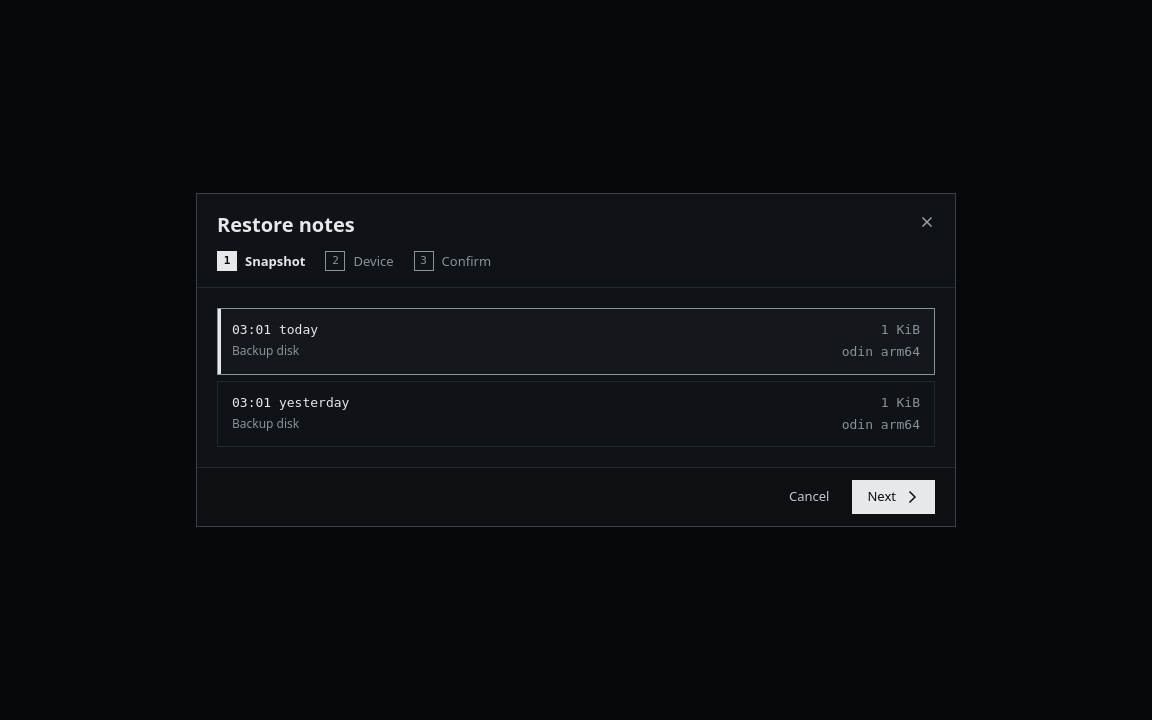
Scenario: walks through snapshot, device, and confirm, then follows the restore to its end
What coordinates should you click on to do the following:
click the button "03:01 yesterday 1 KiB Backup disk odin arm64"
I would click on:
 (291, 402)
Its box is [217,380,935,447].
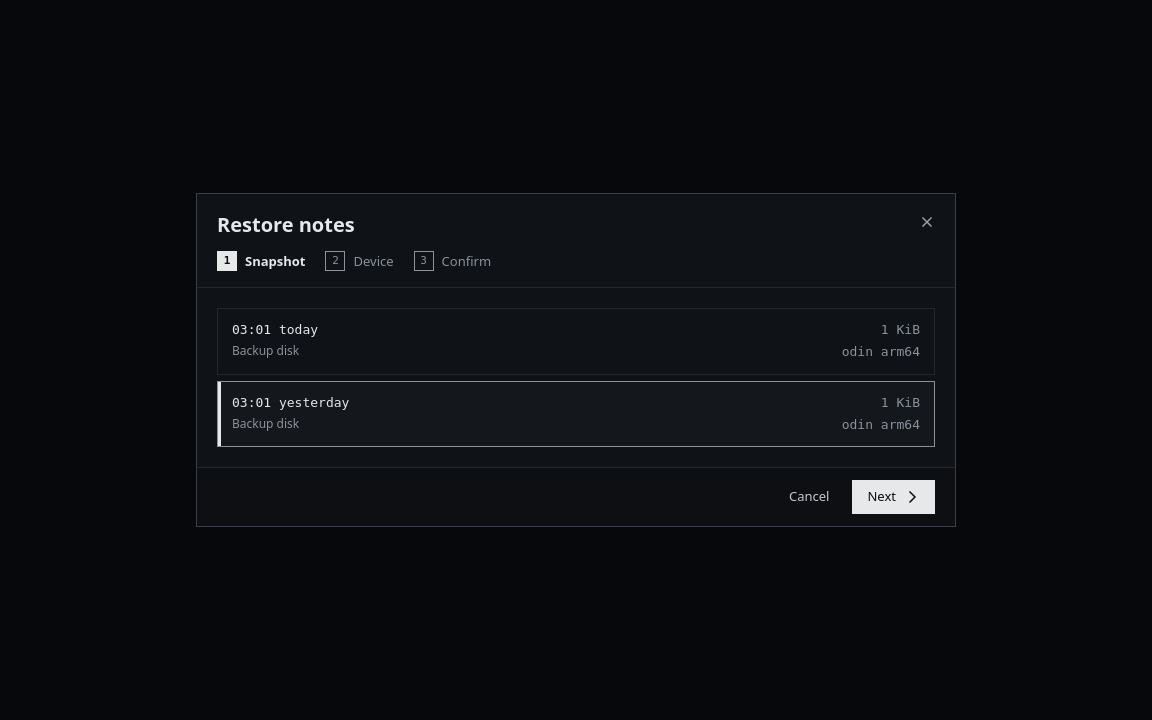
What coordinates should you click on to do the following:
click the button "Next"
I would click on:
 (894, 497)
Its box is [852,480,935,514].
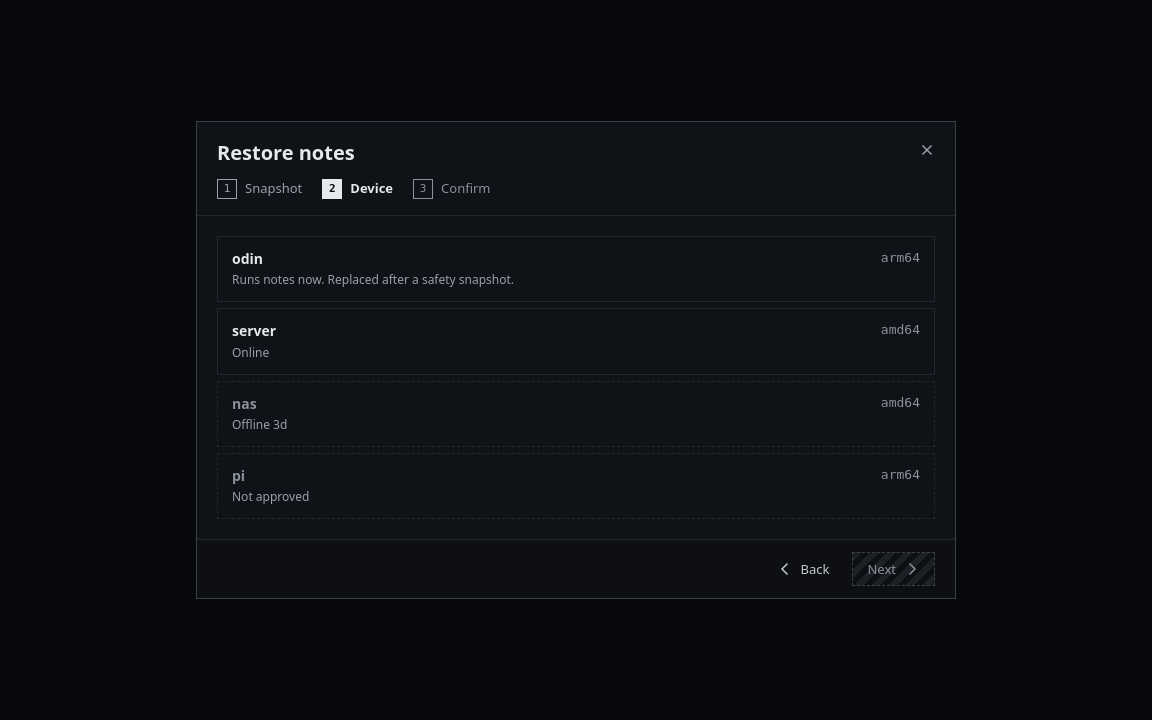
Expected: the button "Next" is disabled, [852,552,935,586]
What coordinates should you click on to do the following:
click the button "server amd64 Online"
I would click on:
 (254, 331)
Its box is [217,308,935,374].
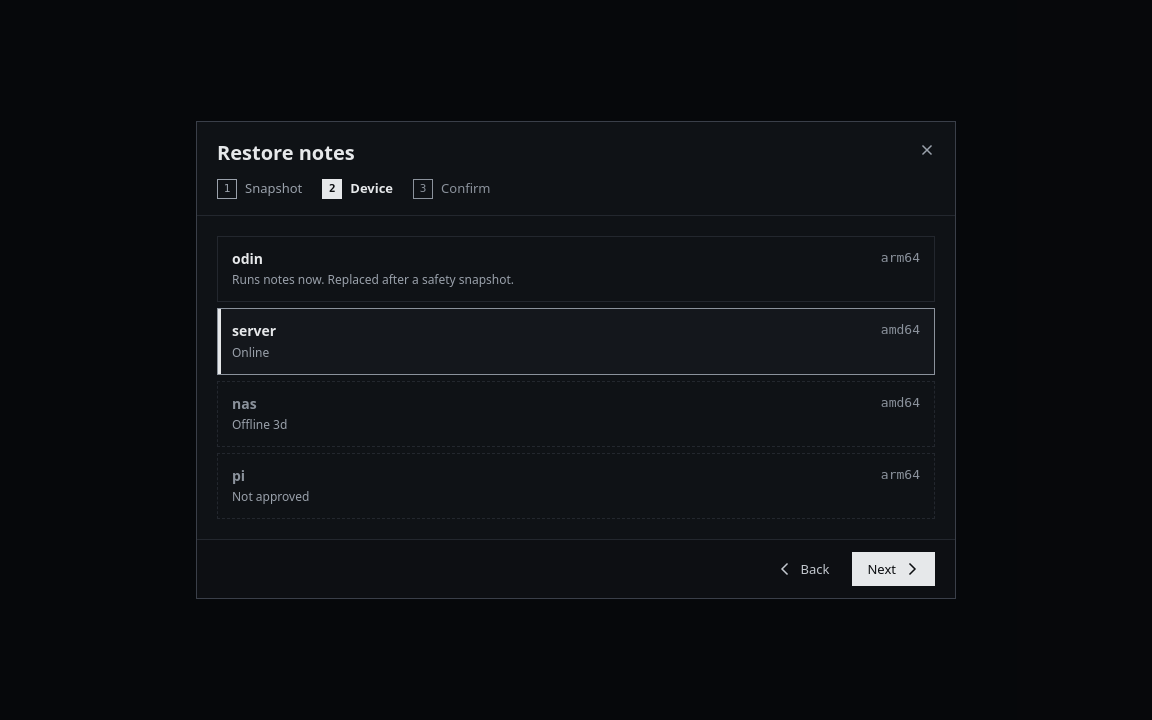
What coordinates should you click on to do the following:
click the button "Next"
I would click on:
 (894, 569)
Its box is [852,552,935,586].
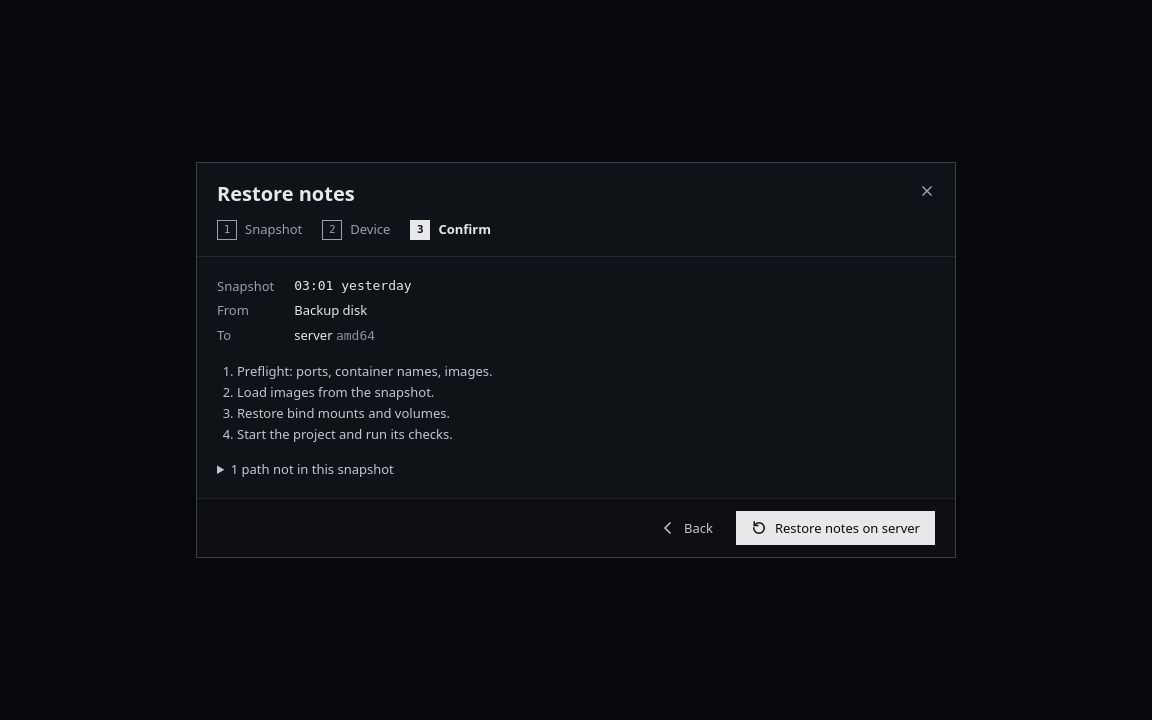
Expected: the list item "Load images from the snapshot." is shown, [237,383,434,401]
What coordinates should you click on to do the following:
click the button "Restore notes on server"
I would click on:
 (835, 528)
Its box is [736,511,935,545].
Wait 3000 ms
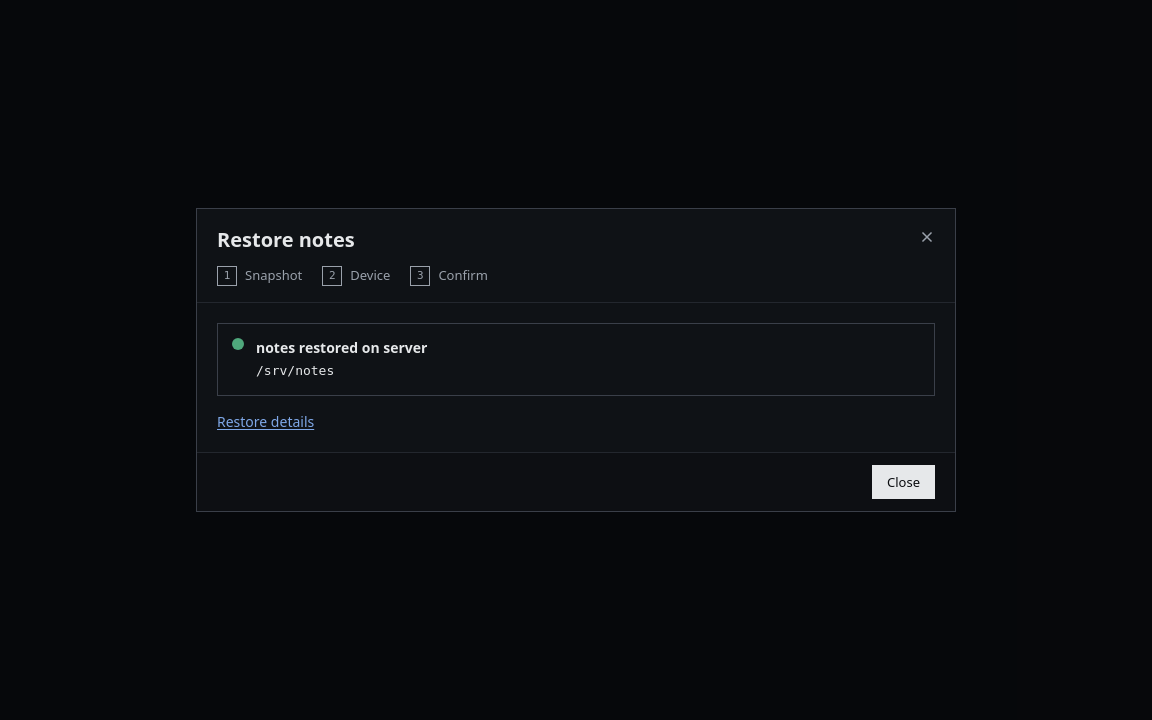
Expected: the text "notes restored on server" is shown, [256,338,427,358]
